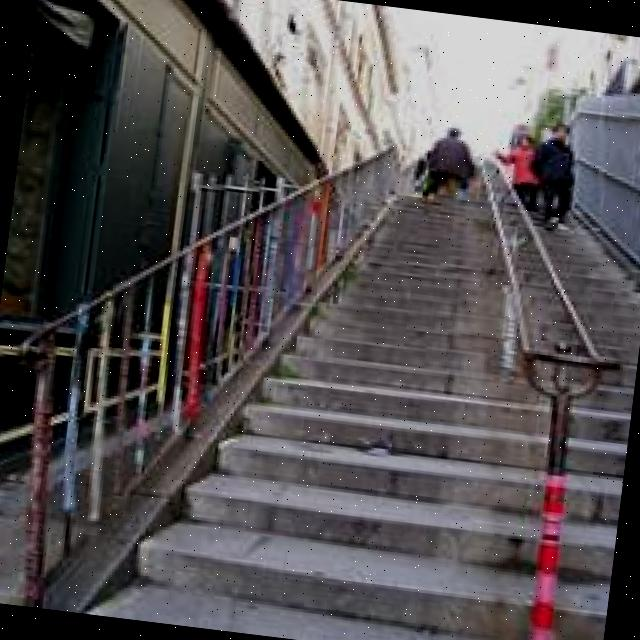stairs: (262, 133, 640, 640)
